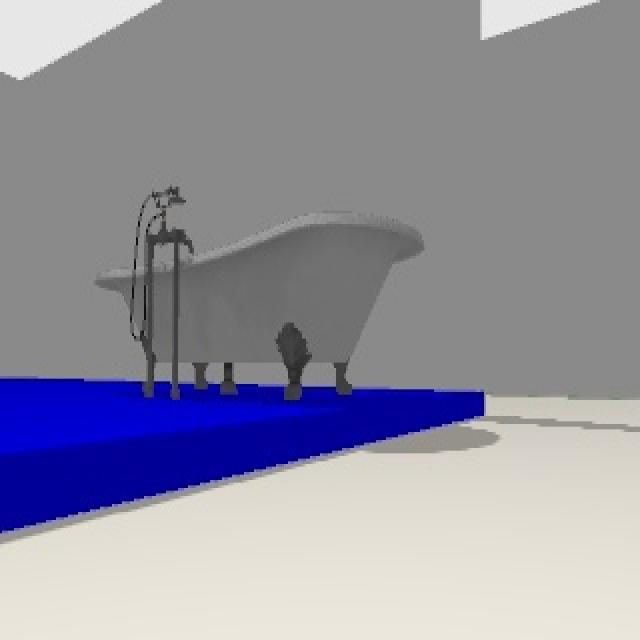bathtub: (95, 186, 429, 403)
